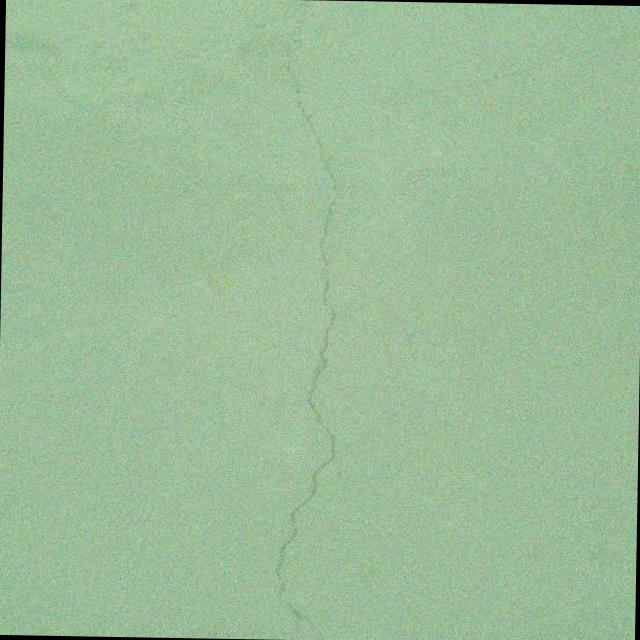crack: (271, 0, 344, 582), (315, 47, 617, 118), (272, 581, 326, 640), (265, 6, 298, 26), (605, 33, 640, 42)
